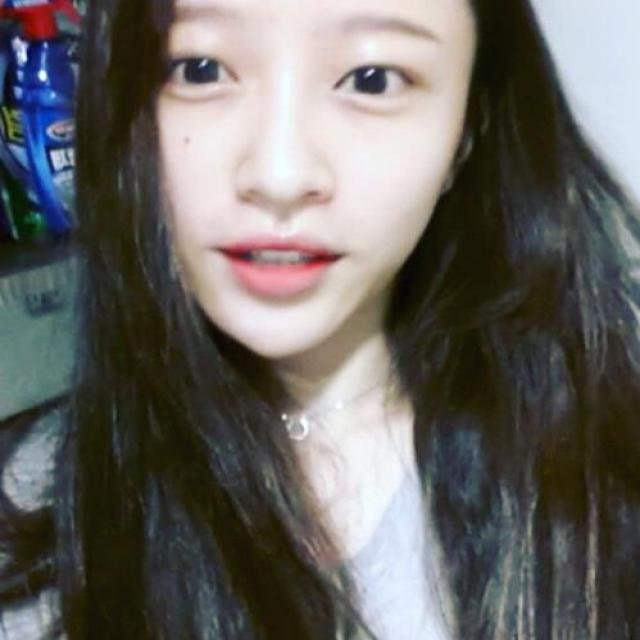face: (140, 6, 459, 352)
